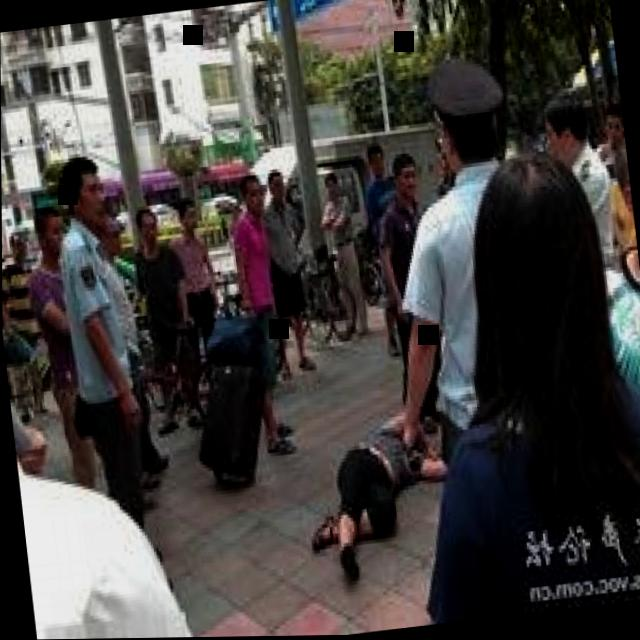Fall-Detected: (293, 366, 460, 583)
